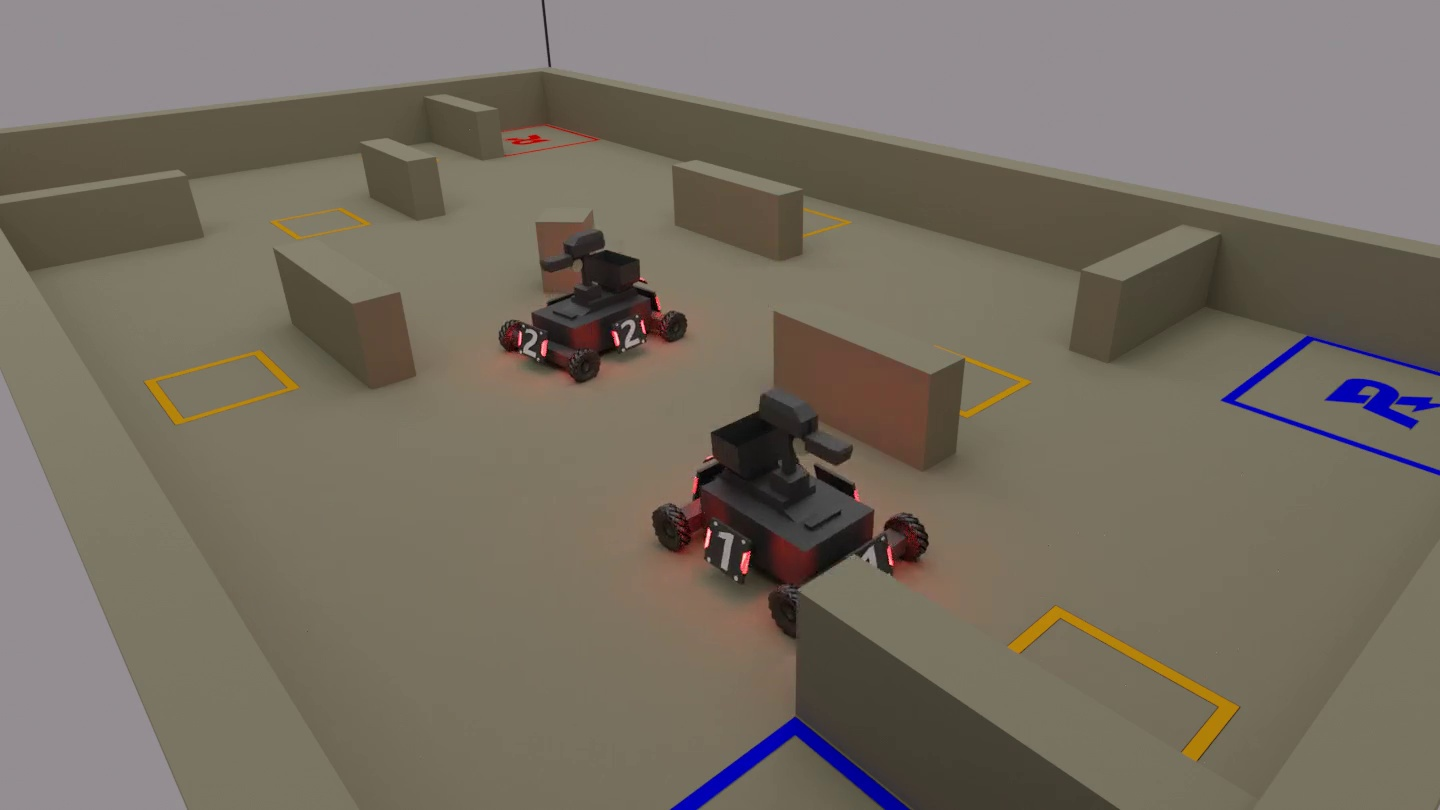Bot 1: (660, 370, 954, 647)
Bot 2: (470, 228, 691, 401)
